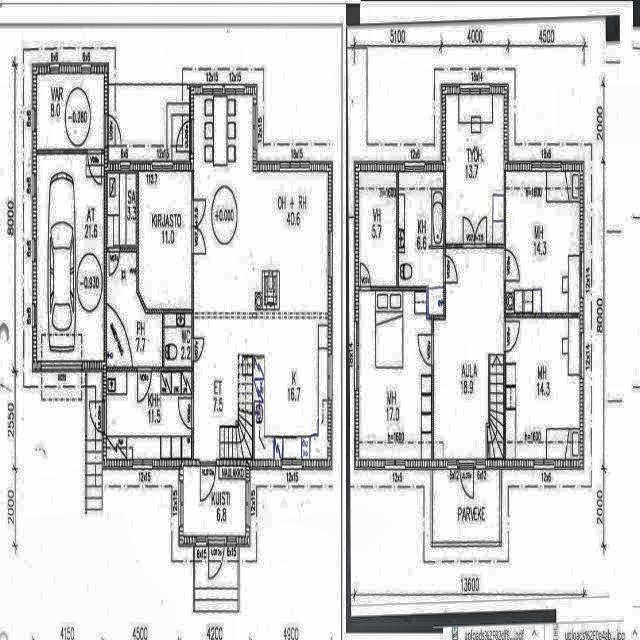room: (359, 291, 432, 461), (505, 170, 580, 314), (505, 318, 580, 461), (446, 95, 504, 243), (399, 171, 443, 315), (358, 172, 396, 286)
